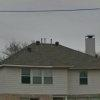Chimney: (78, 28, 100, 59)
